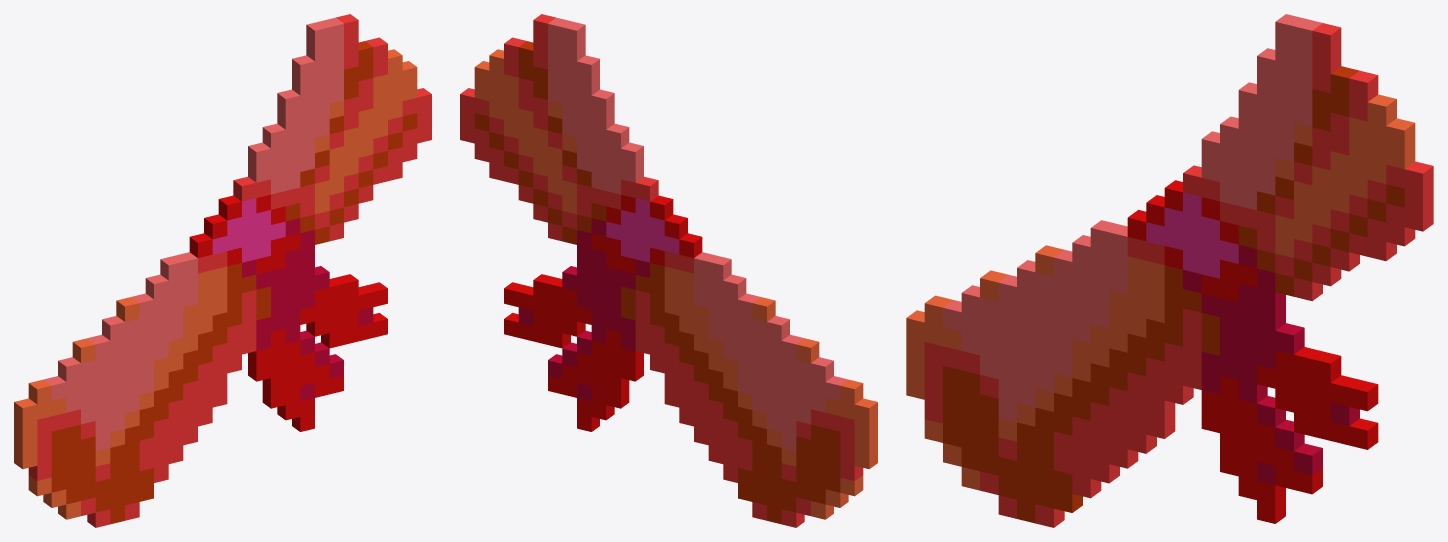
The model's file is I_Scroll06.fbx.
3 renders of one model, left to right at view 1: azimuth 30°, elevation 25°; view 2: azimuth 150°, elevation 25°; view 3: azimuth 330°, elevation 25°, orthographic. The views are drawn at different scales.
Parts seen in each view (by area): view 1: Default; view 2: Default; view 3: Default.
Boxes of the visible parts, x1=… form: Default: x1=14, y1=14, x2=431, y2=527; Default: x1=460, y1=14, x2=877, y2=527; Default: x1=906, y1=14, x2=1433, y2=527.
Size of the model in its own units: 28 by 29 by 1.
1 material, 1 textured.
